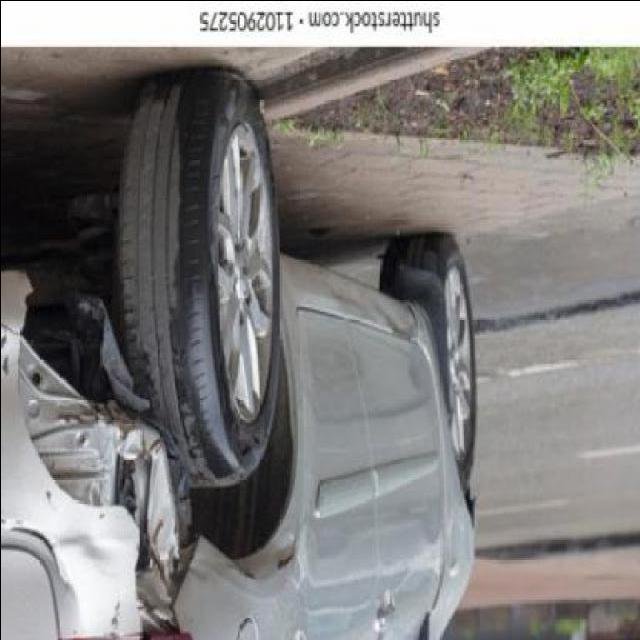rear-bumper-dent: (10, 276, 181, 640)
